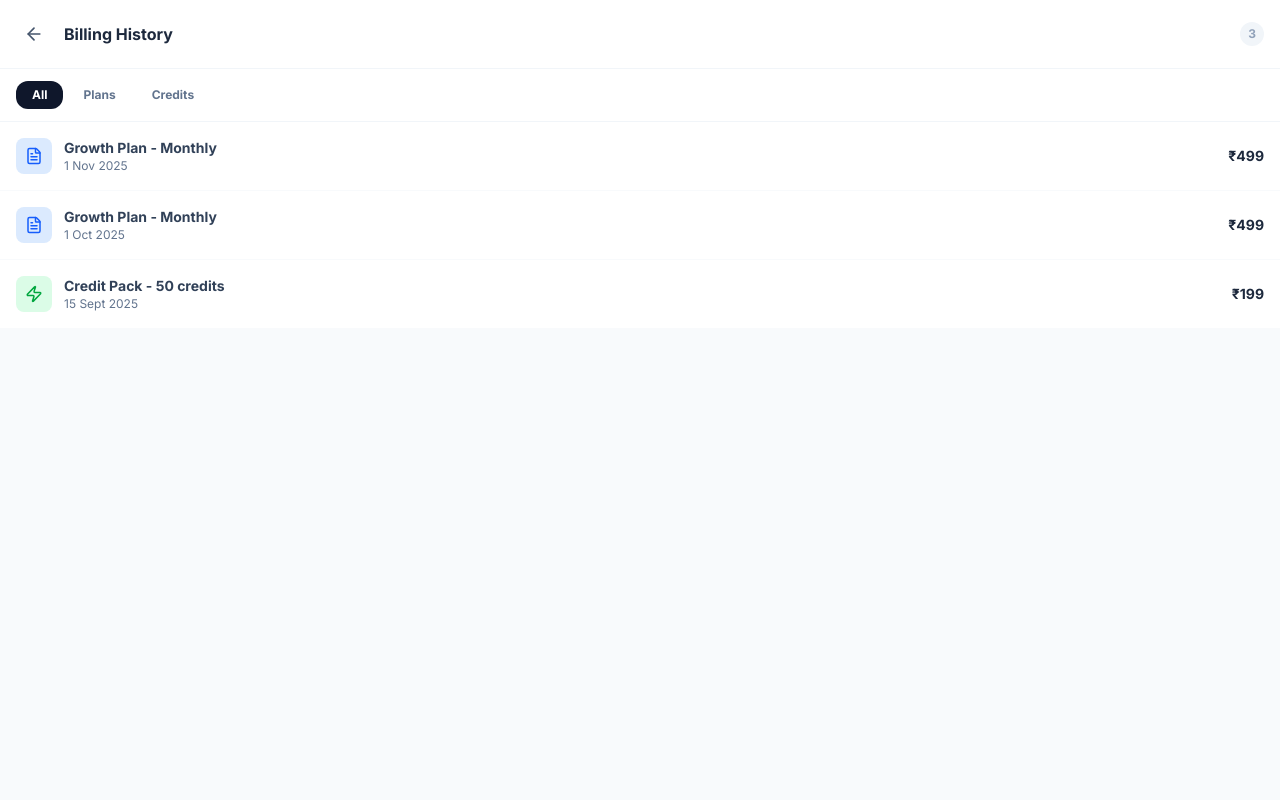
Test: InvoiceHistoryPanel › filters to credits only
What coordinates should you click on to do the following:
click the button "Credits"
I would click on:
 (173, 95)
Its box is 136,81 -> 210,109.
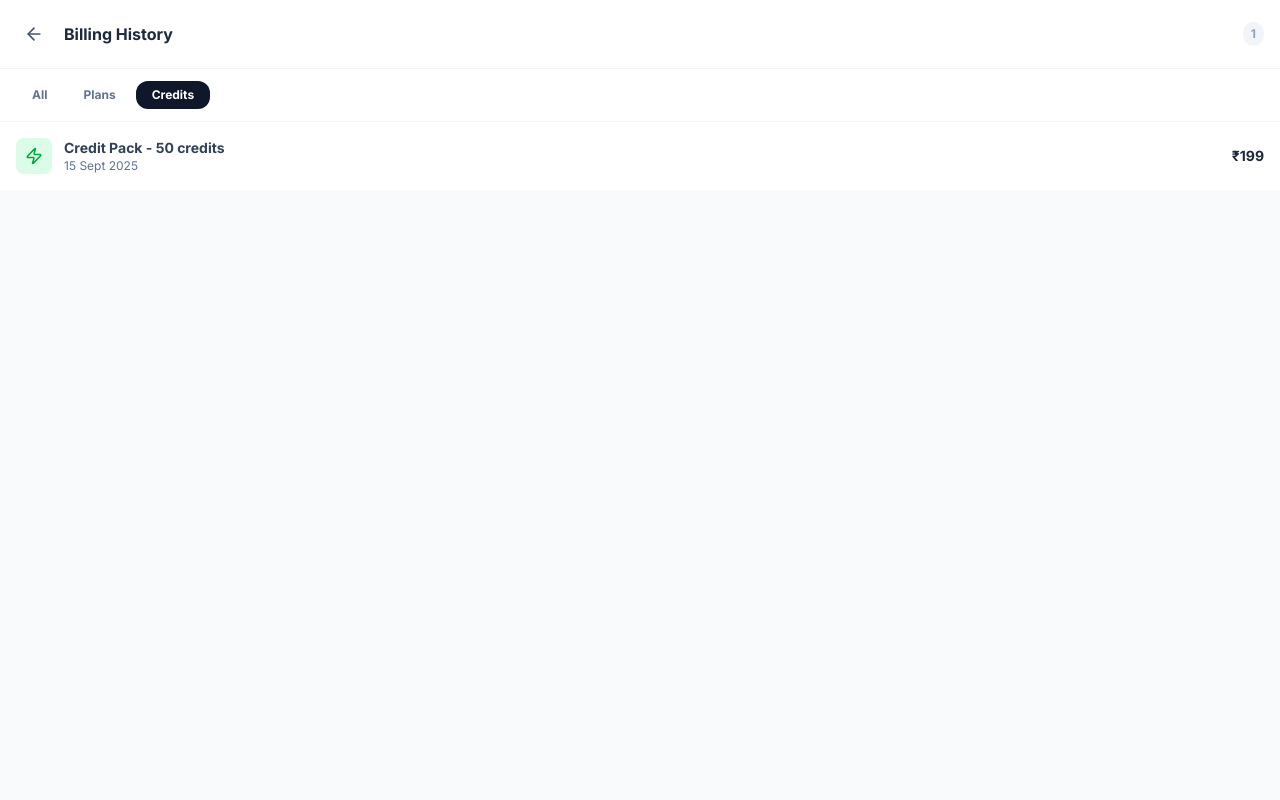
Check: the text "Credit Pack - 50 credits" is shown, box 64,138 -> 225,158
Check: the text "Growth Plan - Monthly" is gone
